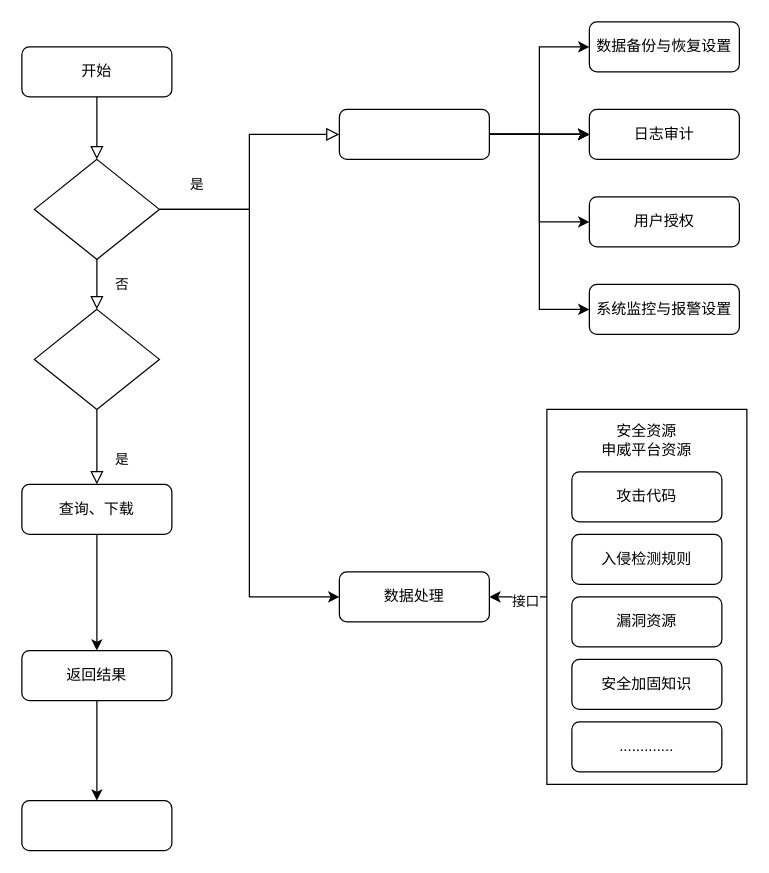
Image size: 769x873. Some labels were removed from this diagram. The shapes that lost their labels are listed below. From the top down, each one's centre as x and y in pixels, then its label:
At point 413,133: "配置管理".
At point 96,208: "管理员".
At point 96,358: "普通用户".
At point 96,825: "结束".
